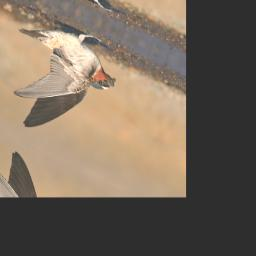Swallow: (0, 2, 127, 159)
